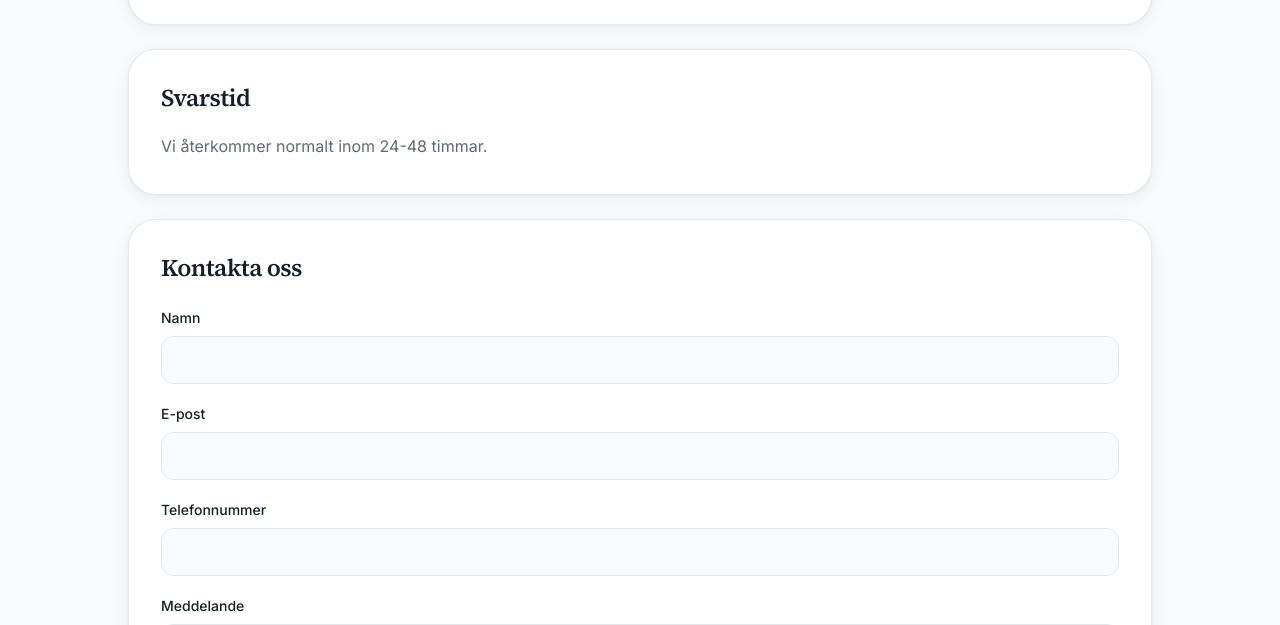
Test: ContactPage › shows a clear error and logs submit failure when save fails
(page scrolled)
Type "Anna Holm" into the field labelled "Namn" at {"x": 640, "y": 360}, box [161,336,1119,384]
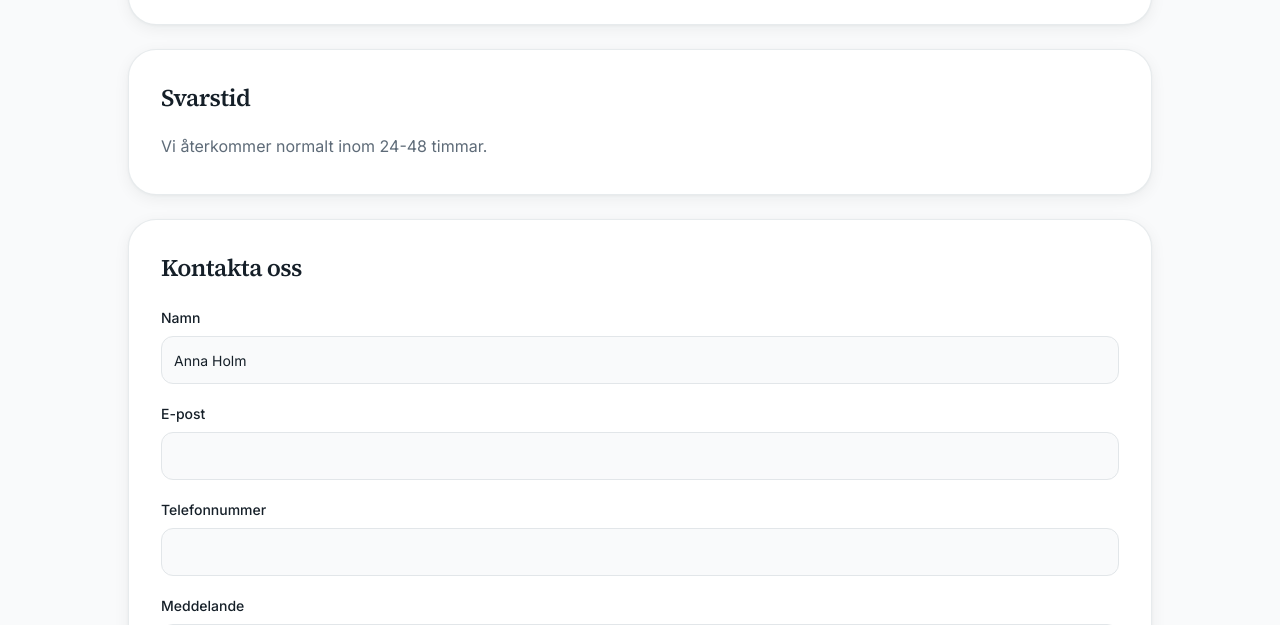
Type "anna@example.com" into the field labelled "E-post" at {"x": 640, "y": 456}, box [161,432,1119,480]
(page scrolled)
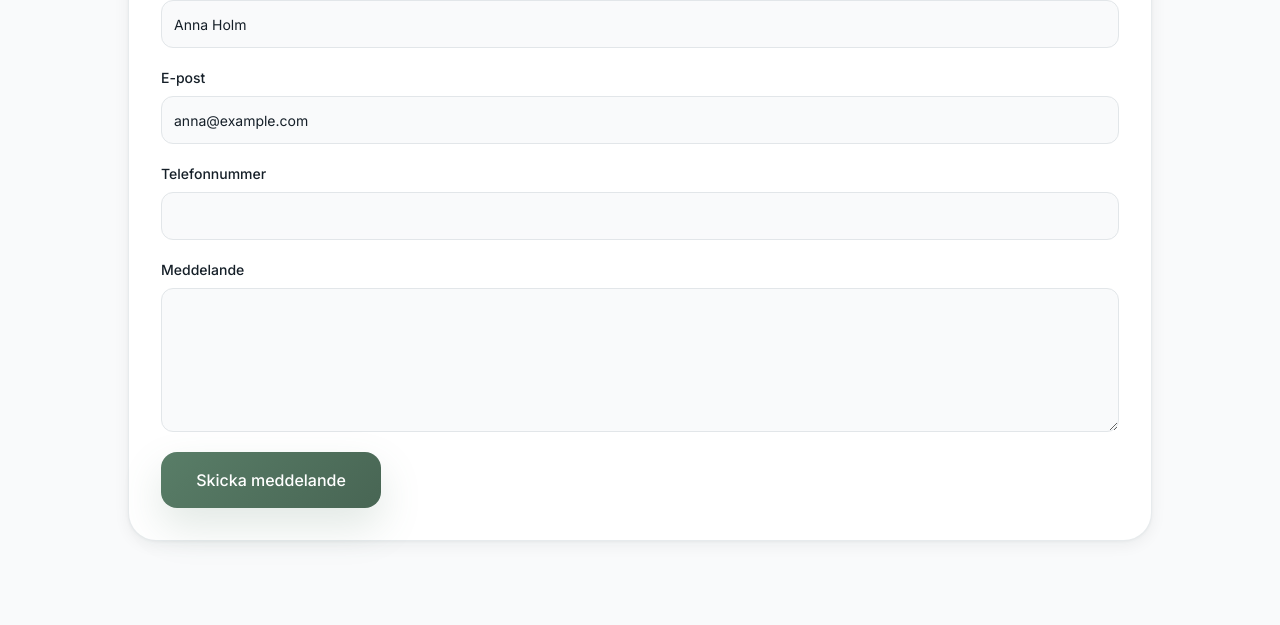
Type "Jag vill veta mer." into the text box labelled "Meddelande" at {"x": 640, "y": 360}, box [161,288,1119,432]
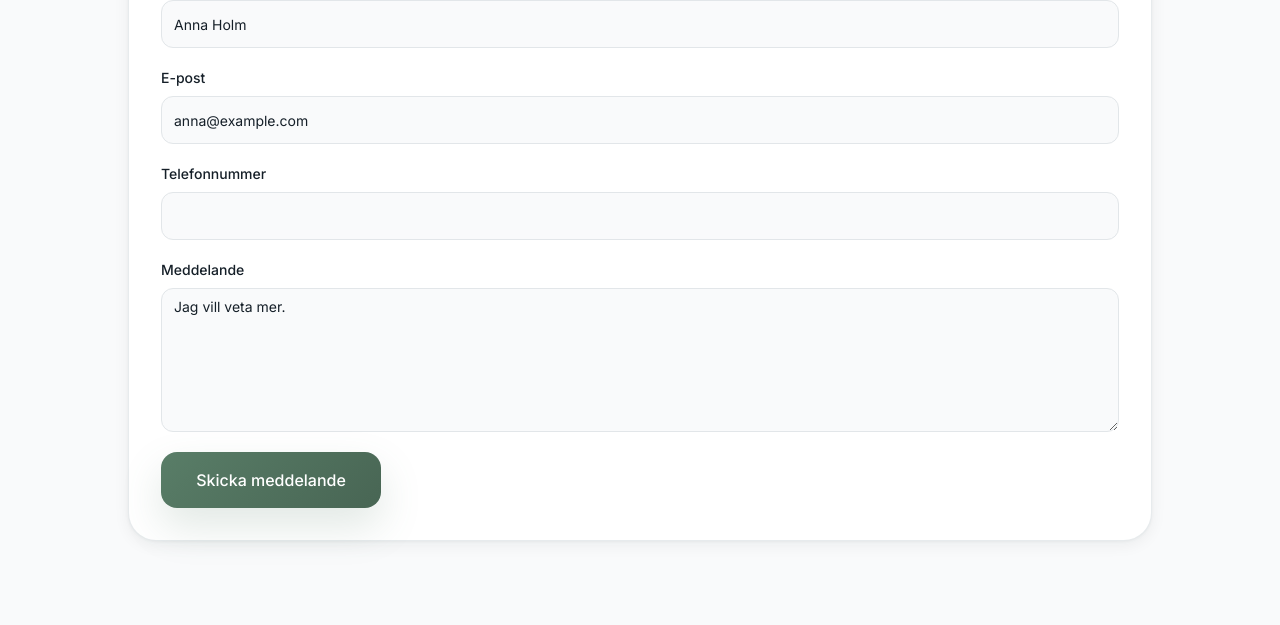
Click the button "Skicka meddelande" at {"x": 271, "y": 480}, box [161,452,381,508]
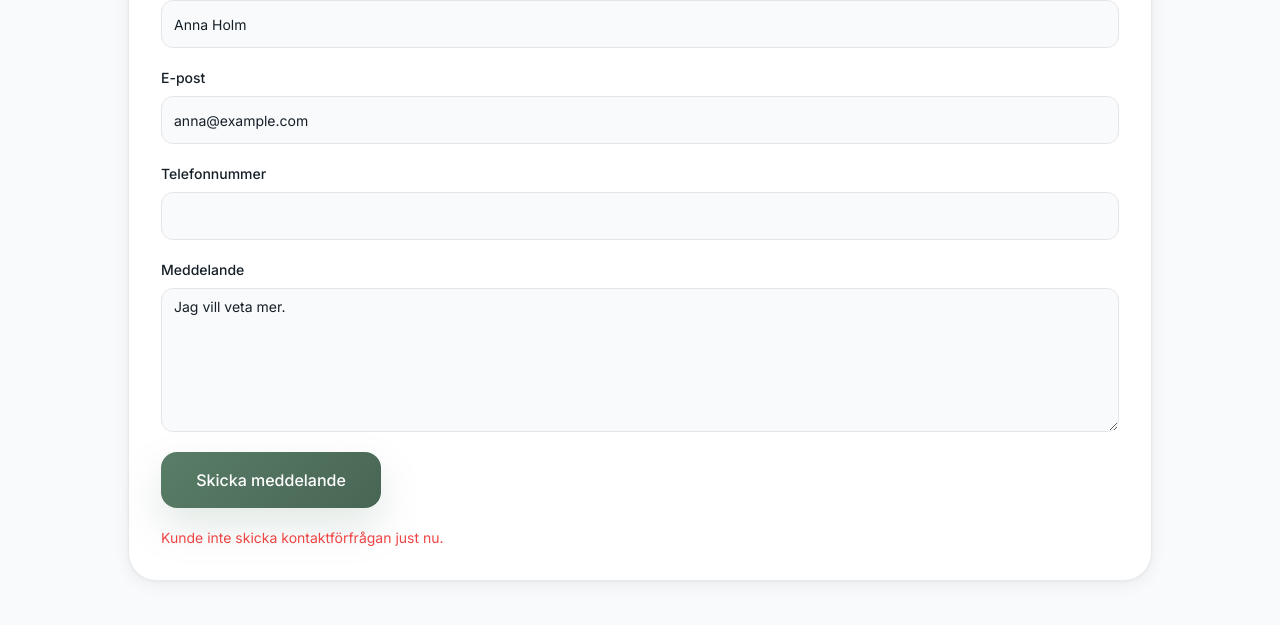
Expected: the text "Kunde inte skicka kontaktförfrågan just nu." is shown, [161,529,444,546]
